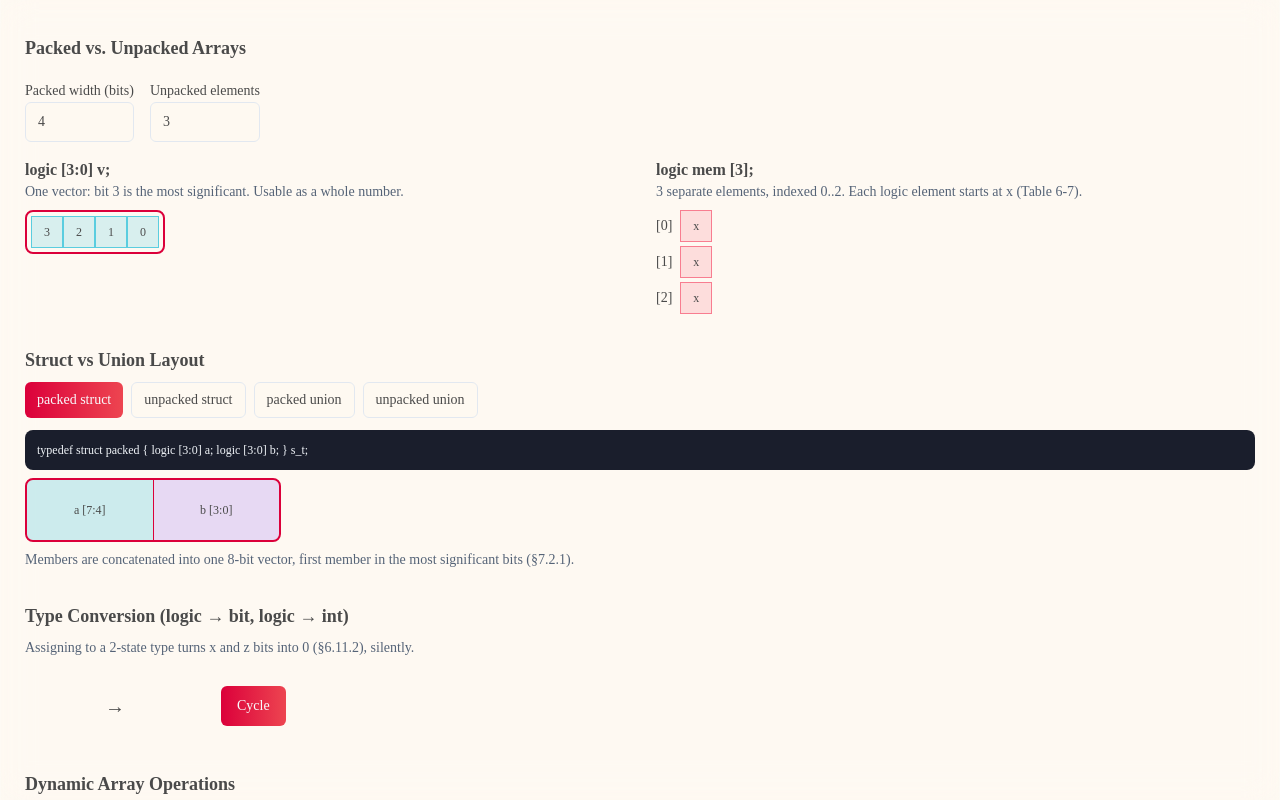
Test: SystemVerilogDataTypesAnimation: rules from the models › a hard packed union shows equal-size members sharing the same bits (§7.3.1)
(page scrolled)
Click the radio button labelled "packed union": [304, 400] box [254,382,354,418]
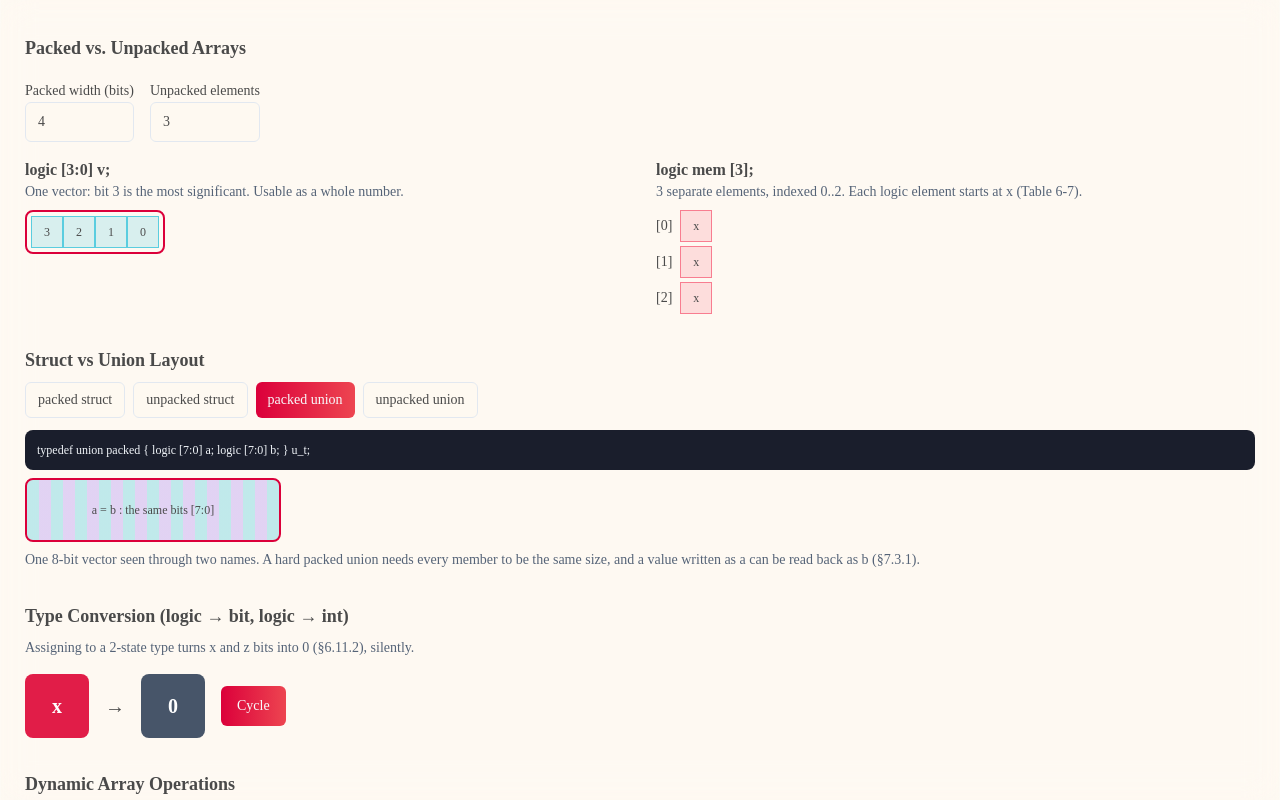
Result: the text "every member to be the same size" is shown at [25,552,920,567]
Result: the text "typedef union packed { logic [7:0] a; logic [7:0] b; } u_t;" is shown at [37,443,310,457]
